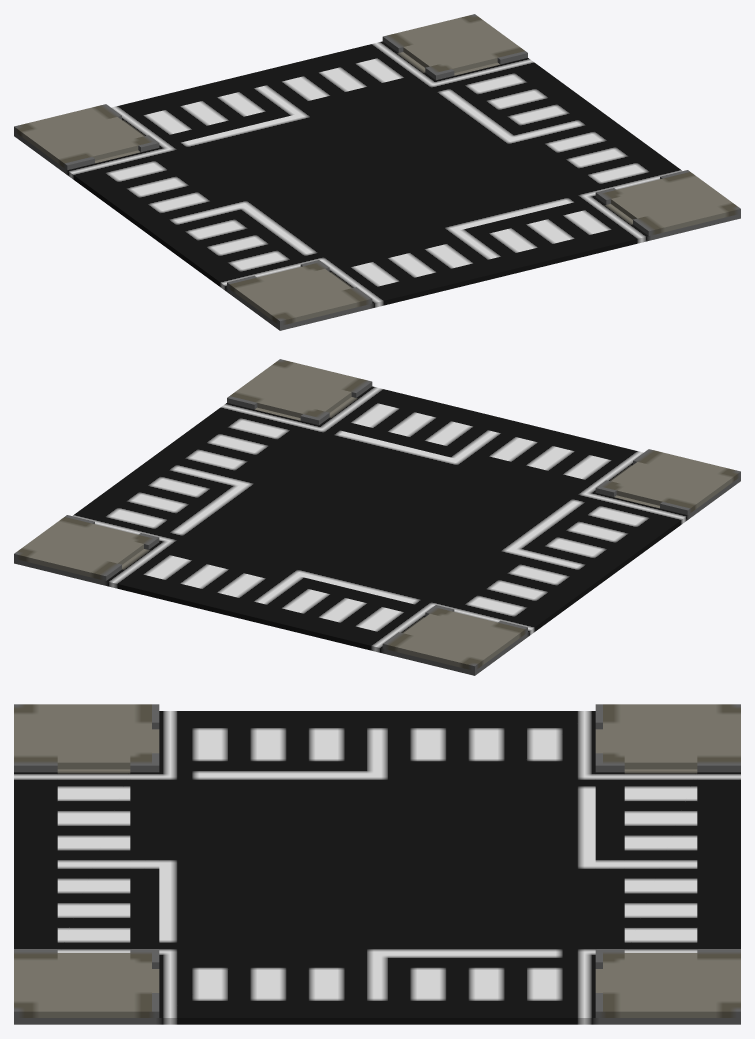
The model's file is Carretera4.fbx.
3 views of the same model, one above another, from view 1: azimuth 30°, elevation 25°; view 2: azimuth 150°, elevation 25°; view 3: azimuth 270°, elevation 25° (orthographic). The views are drawn at different scales.
Parts seen in each view (by area): view 1: Carretera3; view 2: Carretera3; view 3: Carretera3.
Boxes of the visible parts, x1,y1,x2,y2 form: Carretera3: (14, 14, 740, 330); Carretera3: (14, 359, 740, 675); Carretera3: (14, 704, 740, 1024).
Size of the model in its own units: 100 by 2 by 100.
